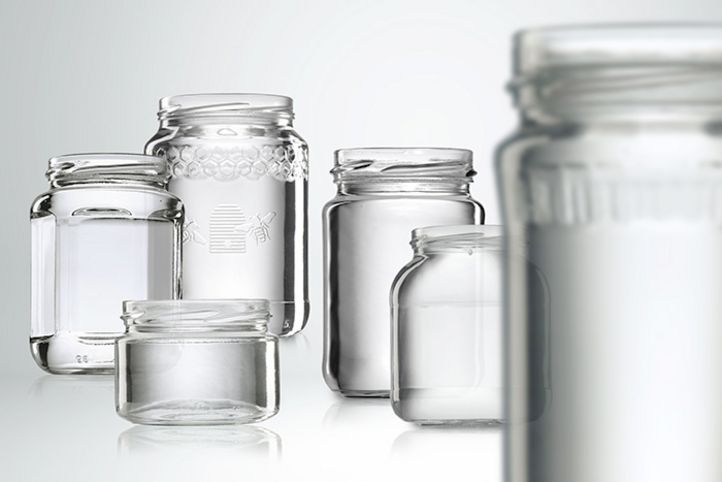glass_bottle: (110, 296, 284, 430)
